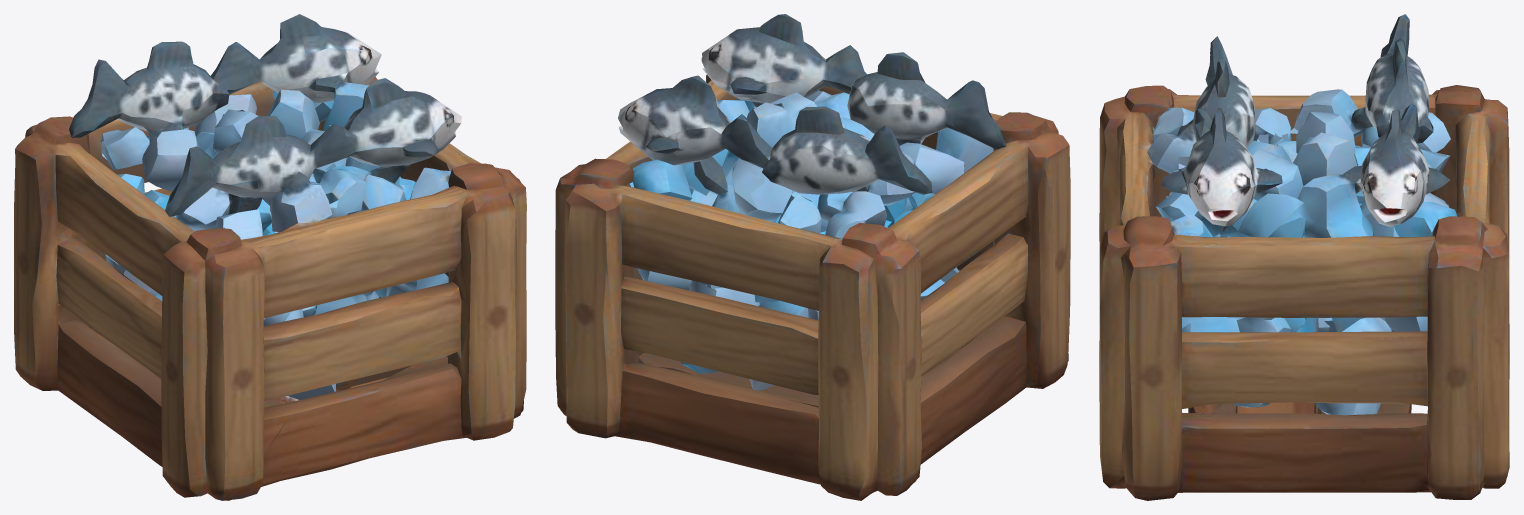
Rendered from a-wooden-crate-with-silver-fish-d9a025.glb.
3 views of the same model, side by side, from view 1: azimuth 30°, elevation 25°; view 2: azimuth 150°, elevation 25°; view 3: azimuth 270°, elevation 25° (orthographic). The views are drawn at different scales.
Visible parts, largest first — view 1: geometry_0; view 2: geometry_0; view 3: geometry_0.
Part boxes in pixels (x1=…): geometry_0: x1=14, y1=14, x2=526, y2=500; geometry_0: x1=555, y1=14, x2=1070, y2=500; geometry_0: x1=1099, y1=14, x2=1509, y2=500.
Size of the model in its own units: 1 by 0.9331 by 1.
Materials: 1 (1 with a texture image).
